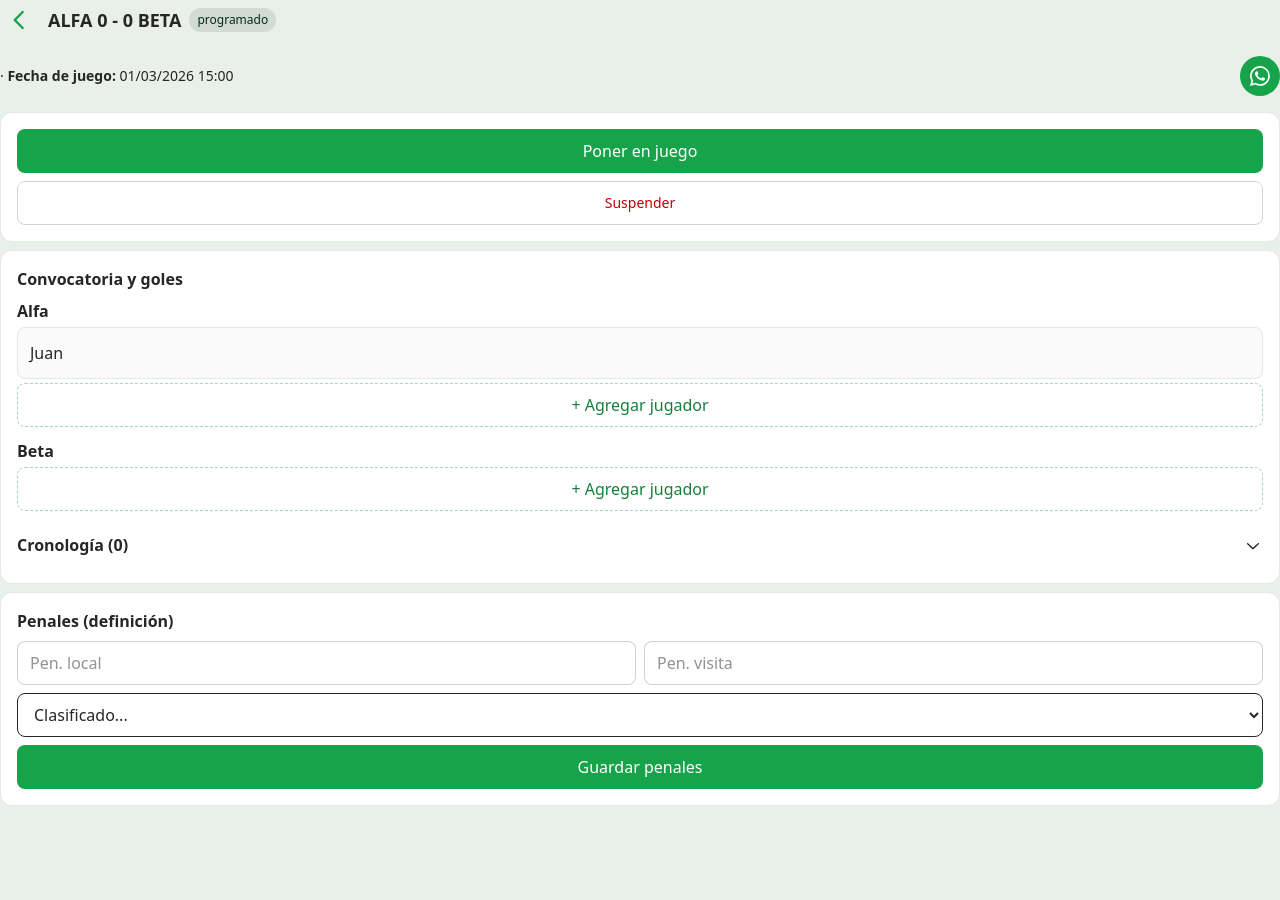
Test: convocatoria unificada › sheet en programado no ofrece goles
The image size is (1280, 900).
Step 1. Click the button "Juan" → (47, 353), box [17,327,1263,379]
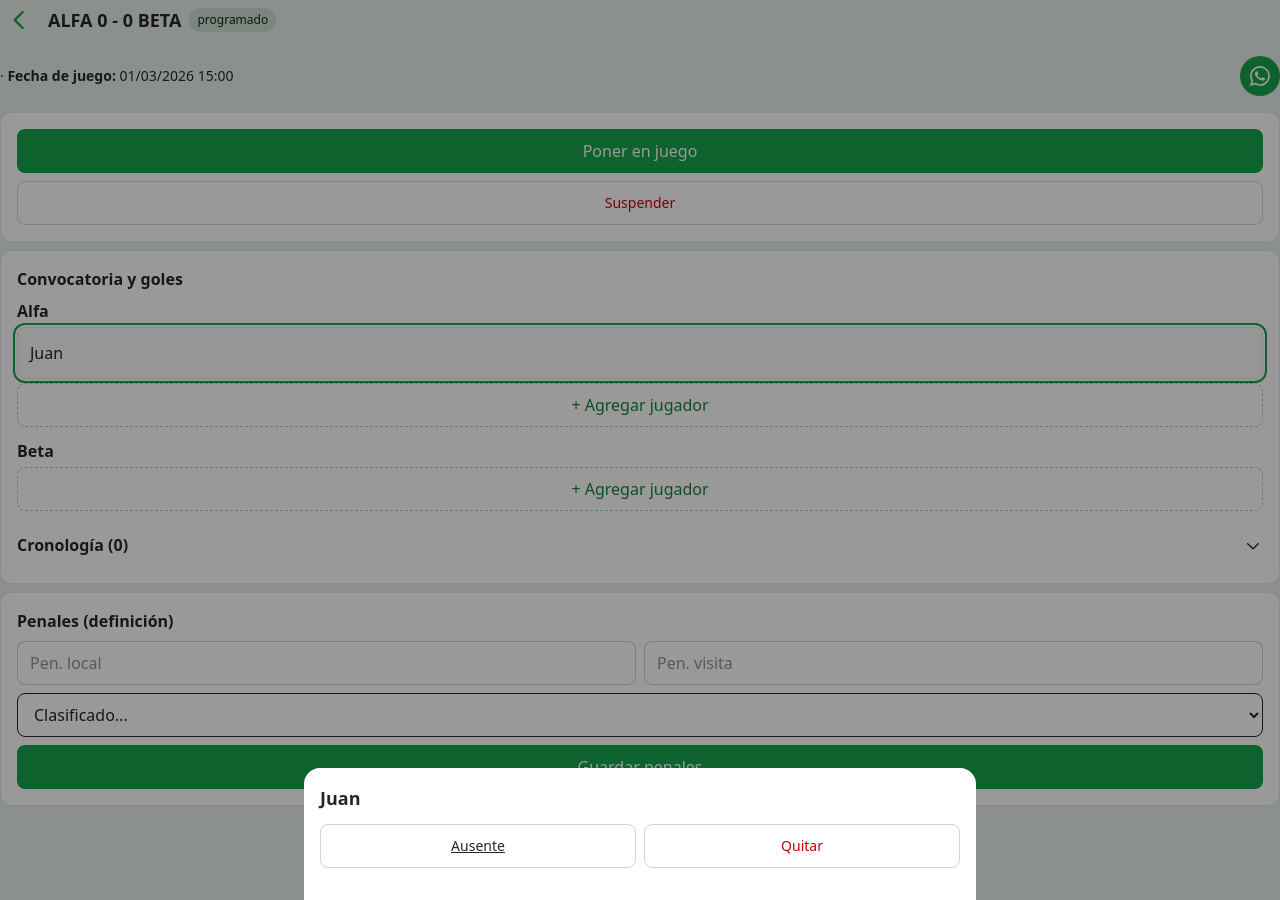
Result: the button "Ausente" is shown at [320,824,636,868]
Result: the button "Quitar" is shown at [644,824,960,868]
